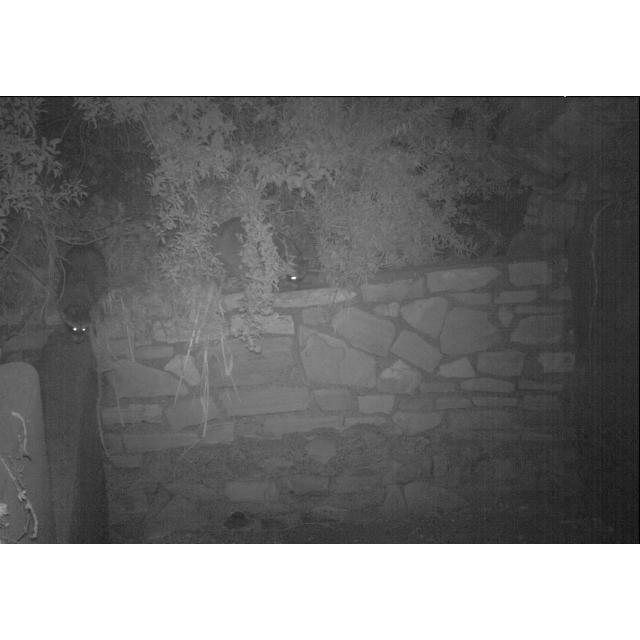animals: (209, 216, 307, 290), (58, 238, 112, 348)
